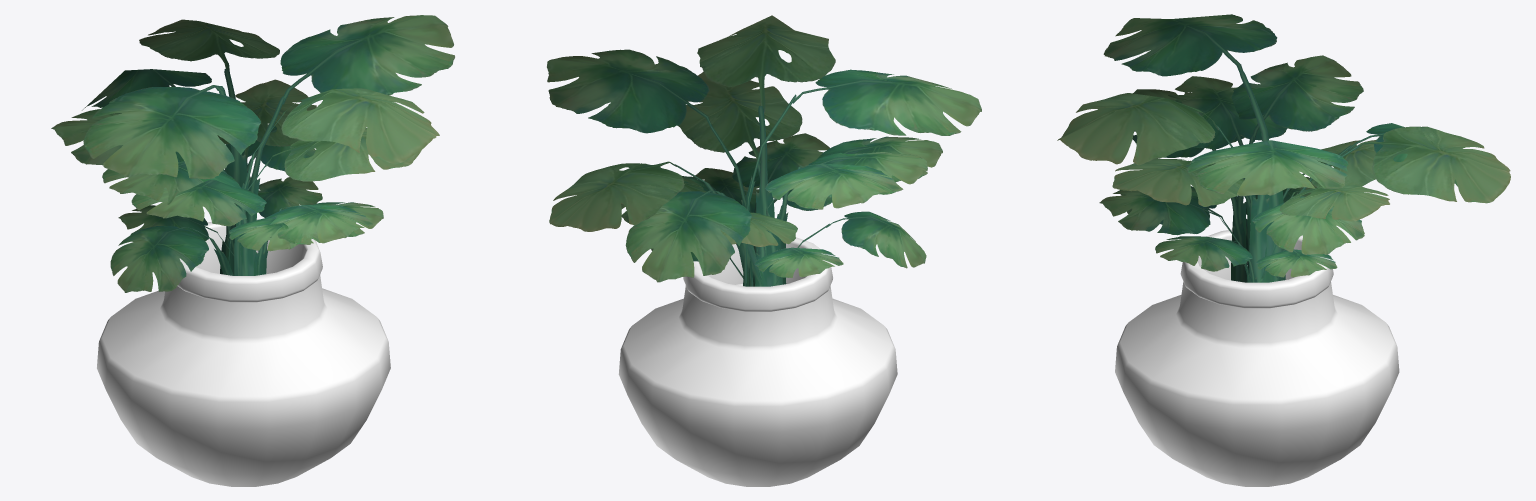
Rendered from SM_Potted_Taro.fbx.
3 renders of one model, left to right at view 1: azimuth 30°, elevation 25°; view 2: azimuth 150°, elevation 25°; view 3: azimuth 270°, elevation 25°, orthographic. The views are drawn at different scales.
Parts seen in each view (by area): view 1: SM_Potted_Taro_LOD0; view 2: SM_Potted_Taro_LOD0; view 3: SM_Potted_Taro_LOD0.
Part boxes in pixels (x1,y1,x2,y2): SM_Potted_Taro_LOD0: [51, 15, 454, 486]; SM_Potted_Taro_LOD0: [547, 15, 981, 486]; SM_Potted_Taro_LOD0: [1057, 14, 1510, 486].
Bounding box in the file's own units: 75.14 × 71.08 × 64.25.
2 materials, 1 textured.
